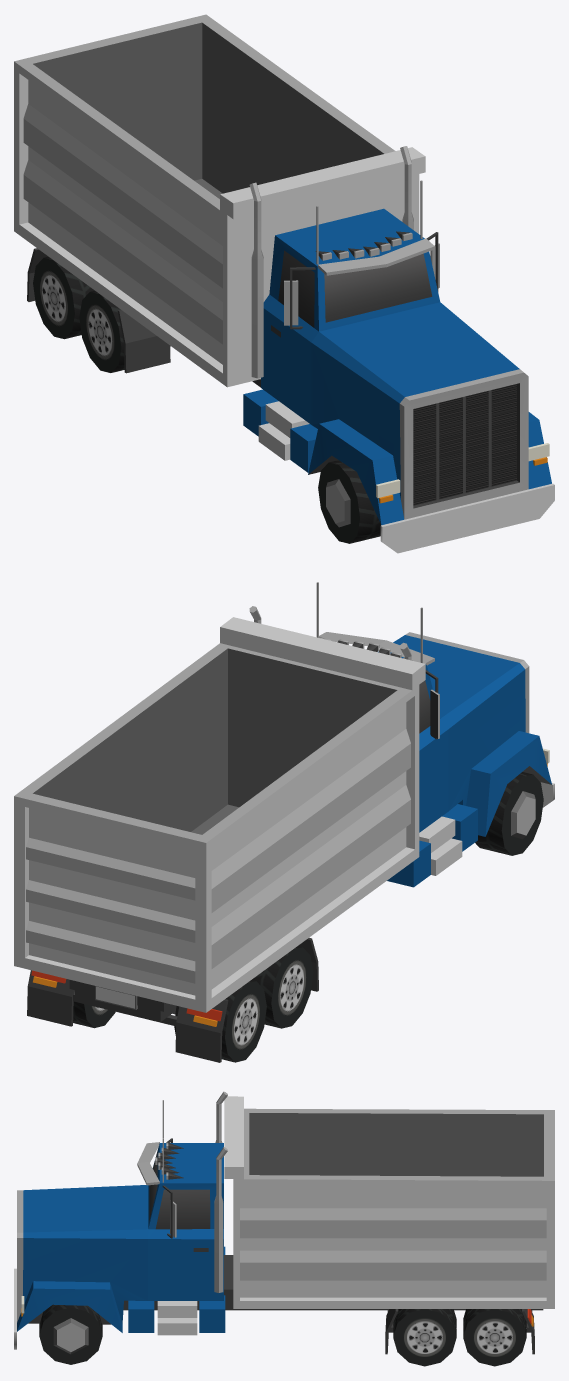
The model's file is TruckAmericanC.fbx.
3 renders of one model, top to bottom at view 1: azimuth 30°, elevation 25°; view 2: azimuth 150°, elevation 25°; view 3: azimuth 270°, elevation 25°, orthographic. The views are drawn at different scales.
Visible parts, largest first — view 1: TruckAmericanC, TireFR, TireBRY, TireBRX; view 2: TruckAmericanC, TireFR, TireBRX, TireBRY, TireBLY; view 3: TruckAmericanC, TireFL, TireBLY, TireBLX.
Part boxes in pixels (<box>): TruckAmericanC: <box>14,14,554,553</box>; TireFR: <box>318,460,380,543</box>; TireBRY: <box>33,256,94,339</box>; TireBRX: <box>79,290,170,372</box>; TruckAmericanC: <box>14,582,554,1062</box>; TireFR: <box>475,772,543,855</box>; TireBRX: <box>252,946,313,1028</box>; TireBRY: <box>174,980,266,1062</box>; TireBLY: <box>73,990,115,1028</box>; TruckAmericanC: <box>14,1091,554,1354</box>; TireFL: <box>39,1304,102,1364</box>; TireBLY: <box>463,1309,526,1366</box>; TireBLX: <box>393,1309,456,1366</box>.
Size of the model in its own units: 225 by 313 by 726.
